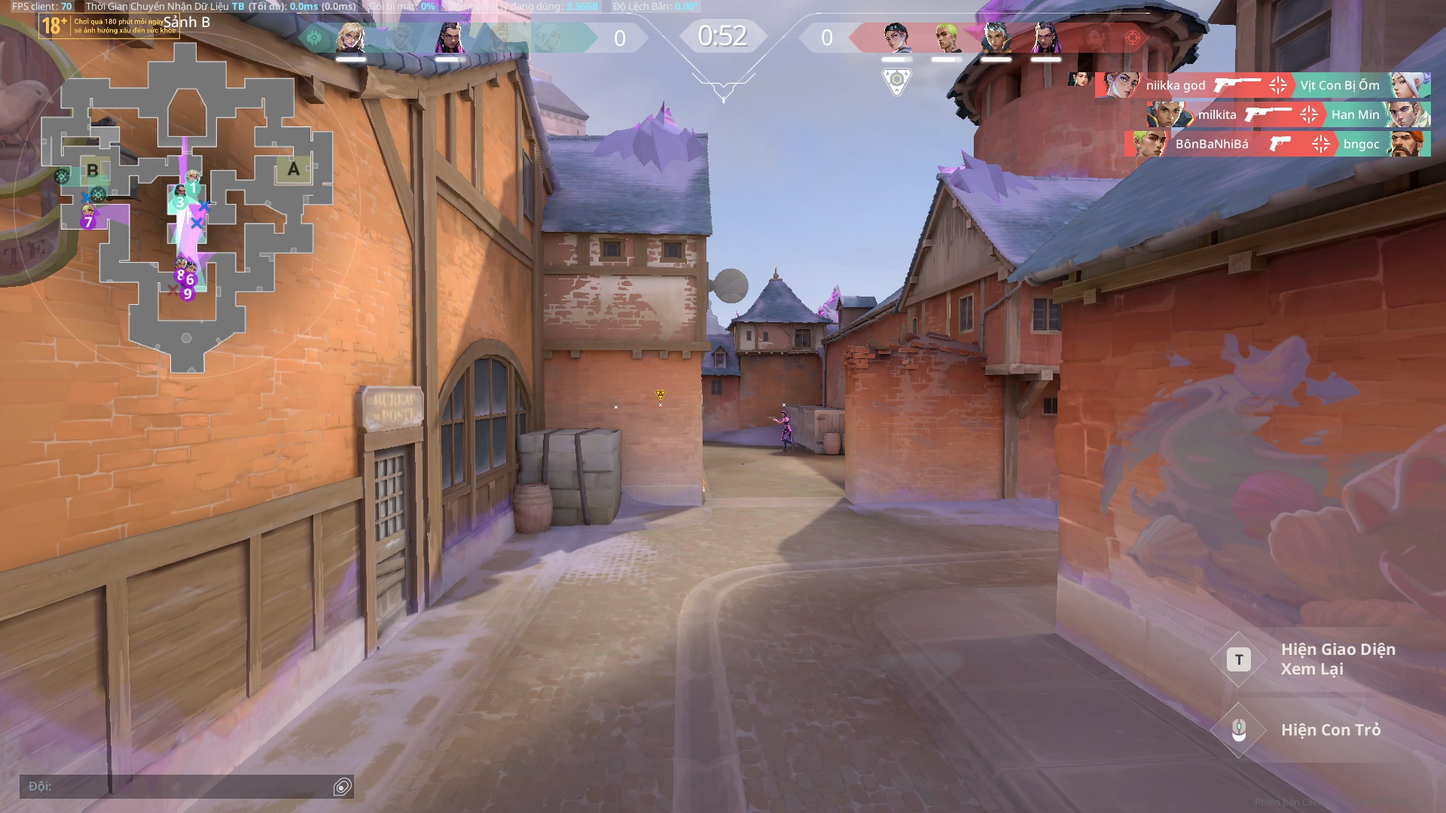body: (779, 416, 792, 430)
head: (779, 410, 786, 419)
